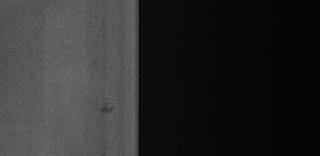oil spot: (98, 101, 112, 116)
